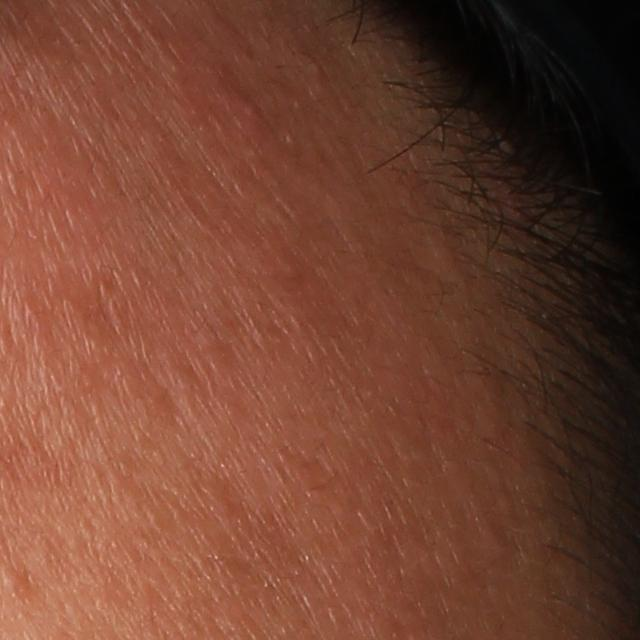comedo: (1, 568, 26, 596)
papule: (230, 93, 267, 128)
